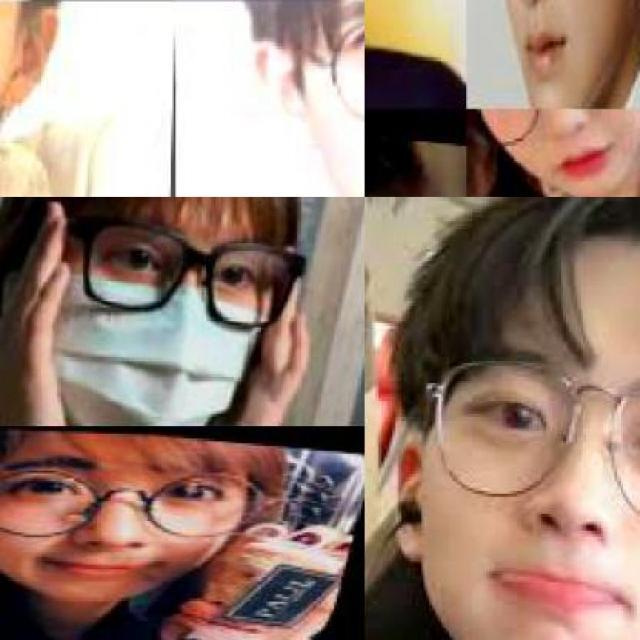glasses: (418, 348, 640, 517), (46, 202, 320, 338), (0, 454, 277, 554)
